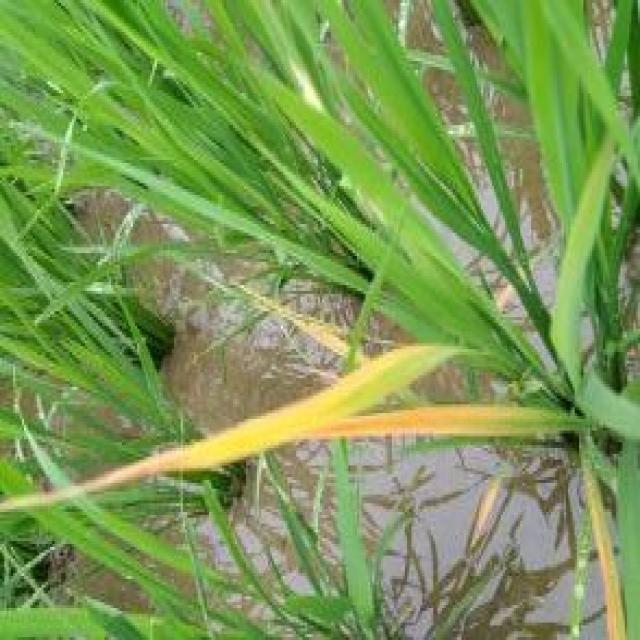Rice Tungro: (177, 390, 553, 454)
